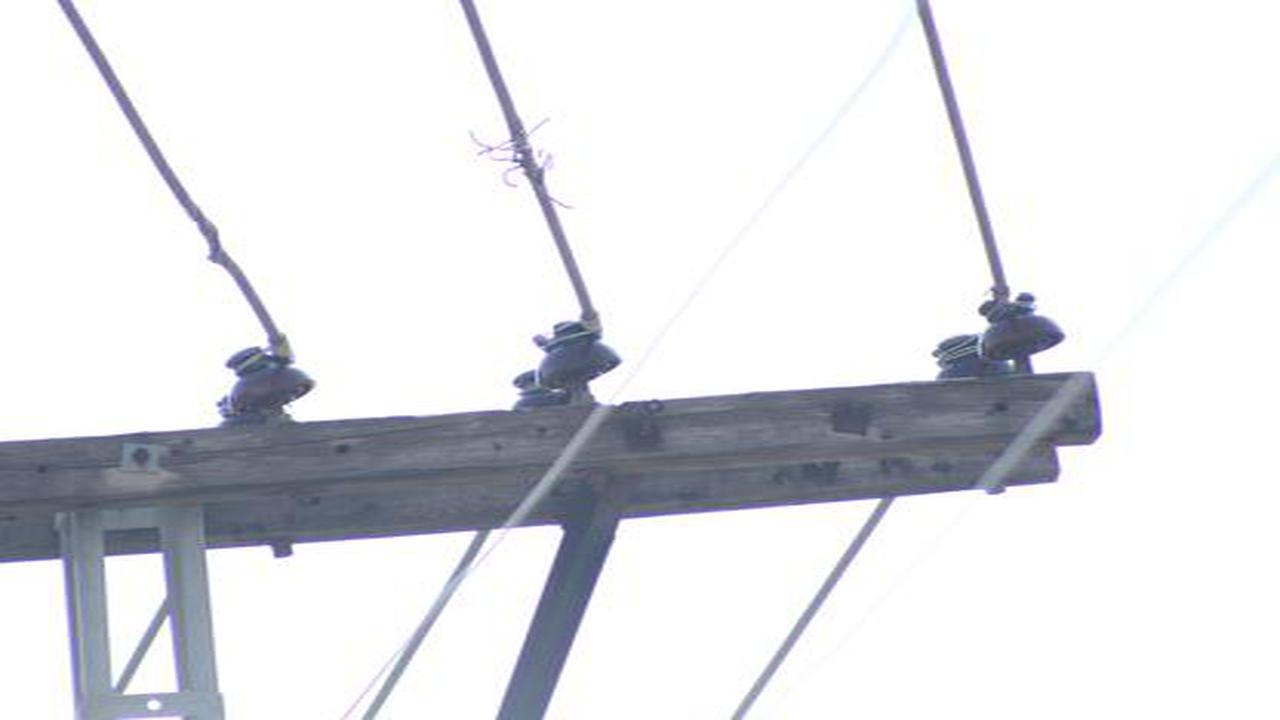insulator_pin: (220, 335, 326, 420), (522, 312, 628, 395), (968, 288, 1072, 369)
